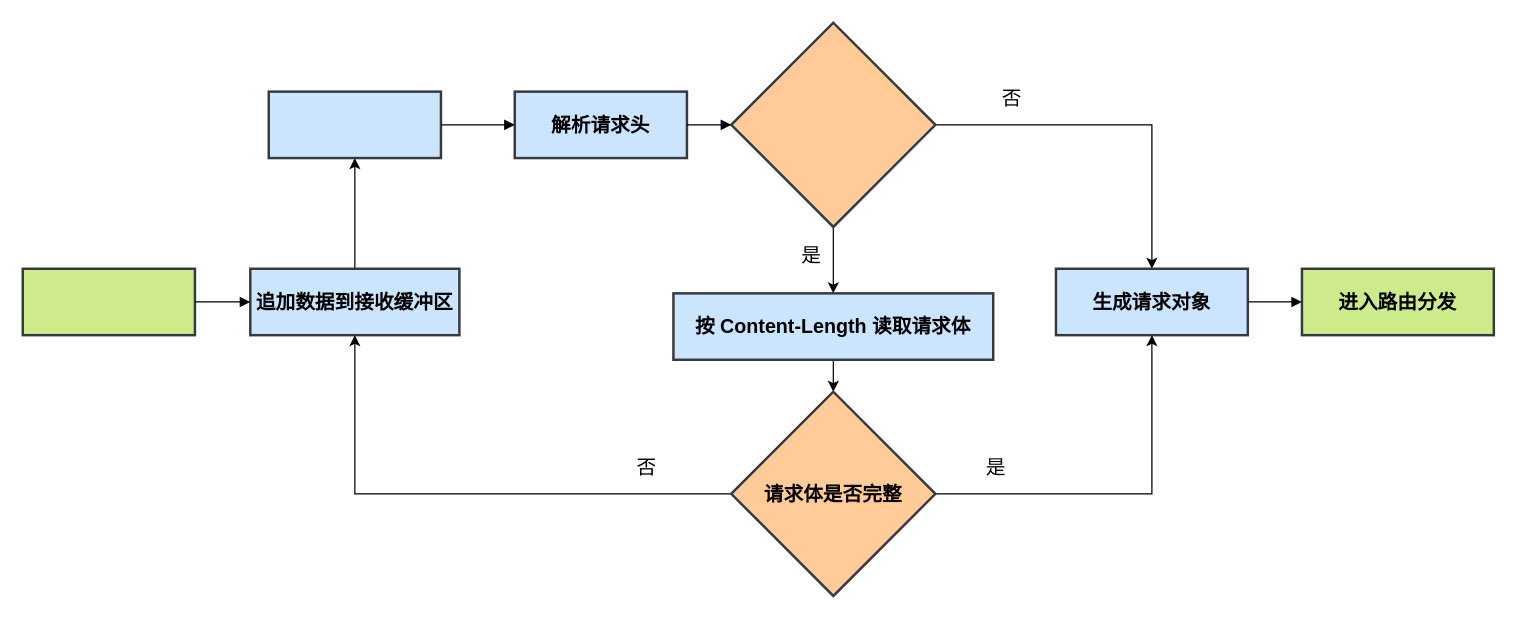
This 1515x617 diagram has some shape labels left out. Each missing label, with the box of its shape:
套接字可读: (21, 267, 196, 336)
是否存在请求体: (729, 21, 936, 228)
解析请求行: (267, 90, 442, 159)
